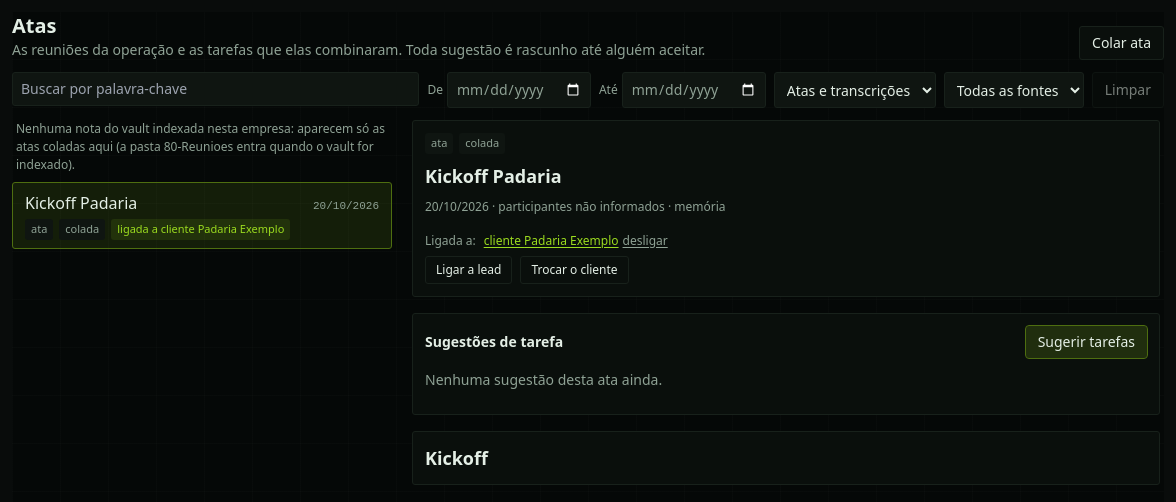
Test case: Atas: ligar a ata a um lead ou a um cliente › ligada a cliente: o link abre a ficha e "desligar" manda null
This screenshot has width=1176, height=502.
Click the button with test id "ata-desligar-cliente": [645, 240] box [623,232,668,250]
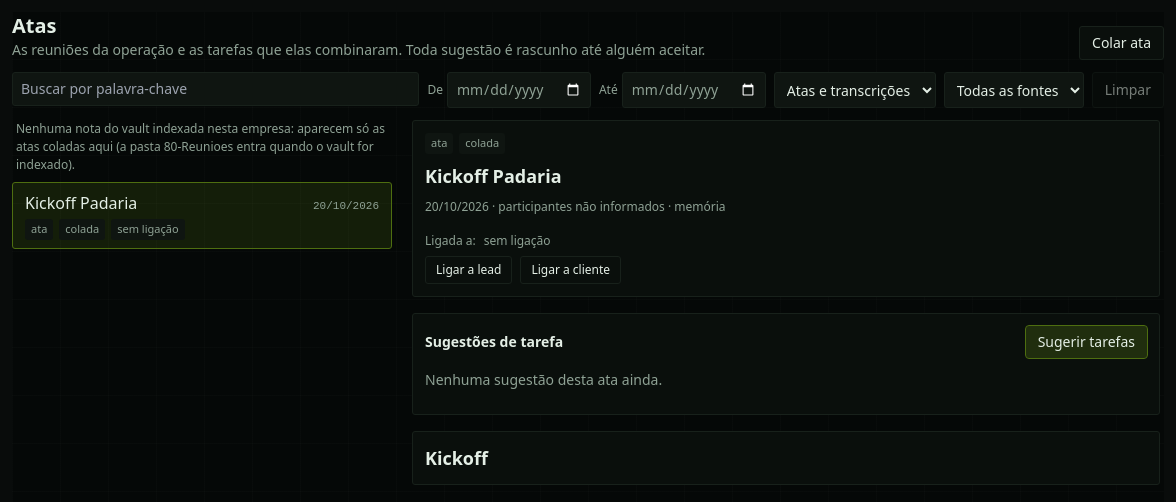
Expected: the text with test id "ata-sem-ligacao" is shown, [484,232,551,250]
